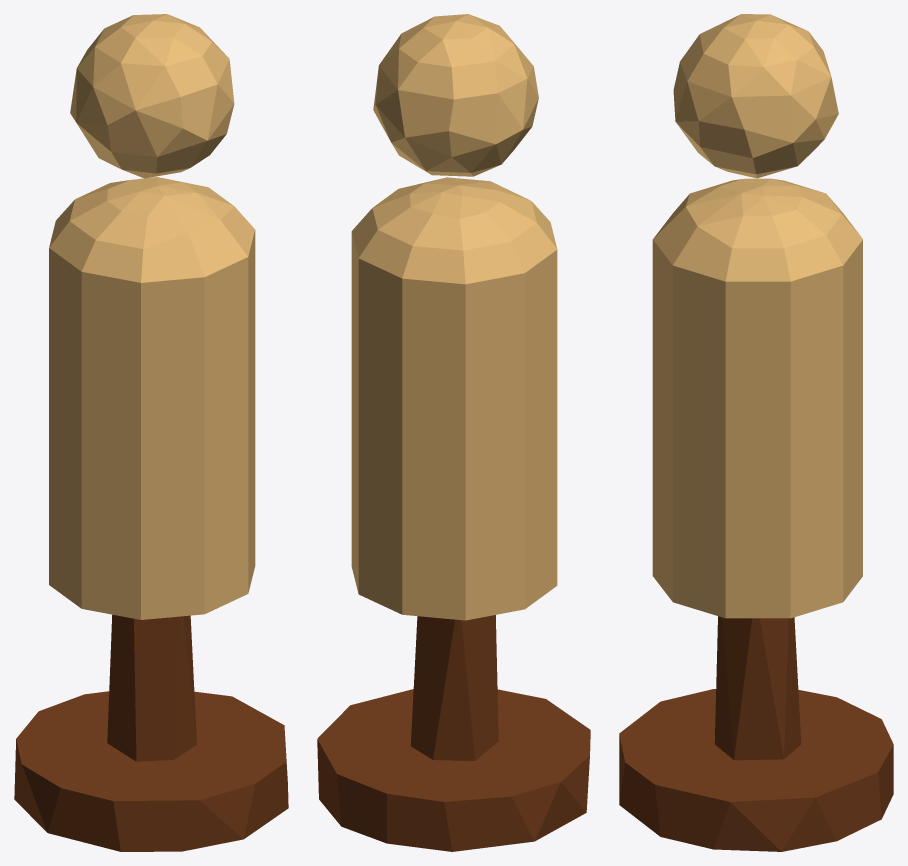
Rendered from target-dummy.fbx.
3 renders of one model, left to right at view 1: azimuth 30°, elevation 25°; view 2: azimuth 150°, elevation 25°; view 3: azimuth 270°, elevation 25°, orthographic.
Parts seen in each view (by area): view 1: Cylinder; view 2: Cylinder; view 3: Cylinder.
Part boxes in pixels (x1=…): Cylinder: x1=14, y1=14, x2=288, y2=851; Cylinder: x1=317, y1=14, x2=590, y2=851; Cylinder: x1=619, y1=14, x2=893, y2=851.
Size of the model in its own units: 199 by 199 by 620.
